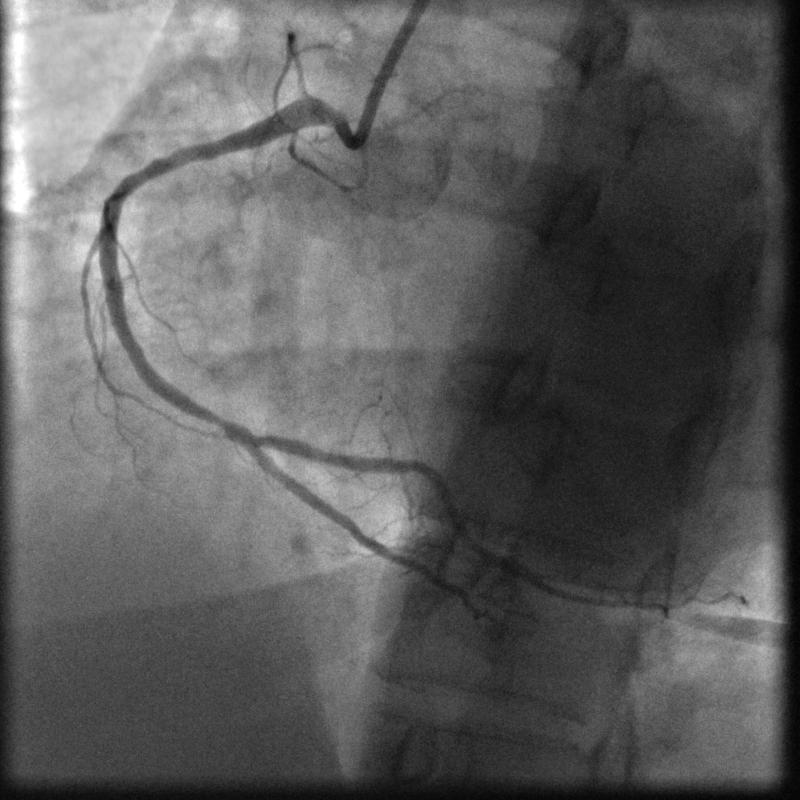Stenosis: (207, 400, 232, 440)
